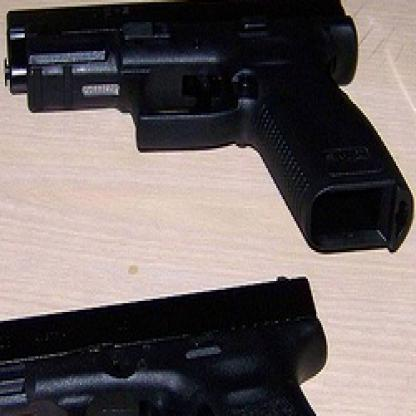gun: (1, 0, 415, 264), (0, 274, 393, 414)
